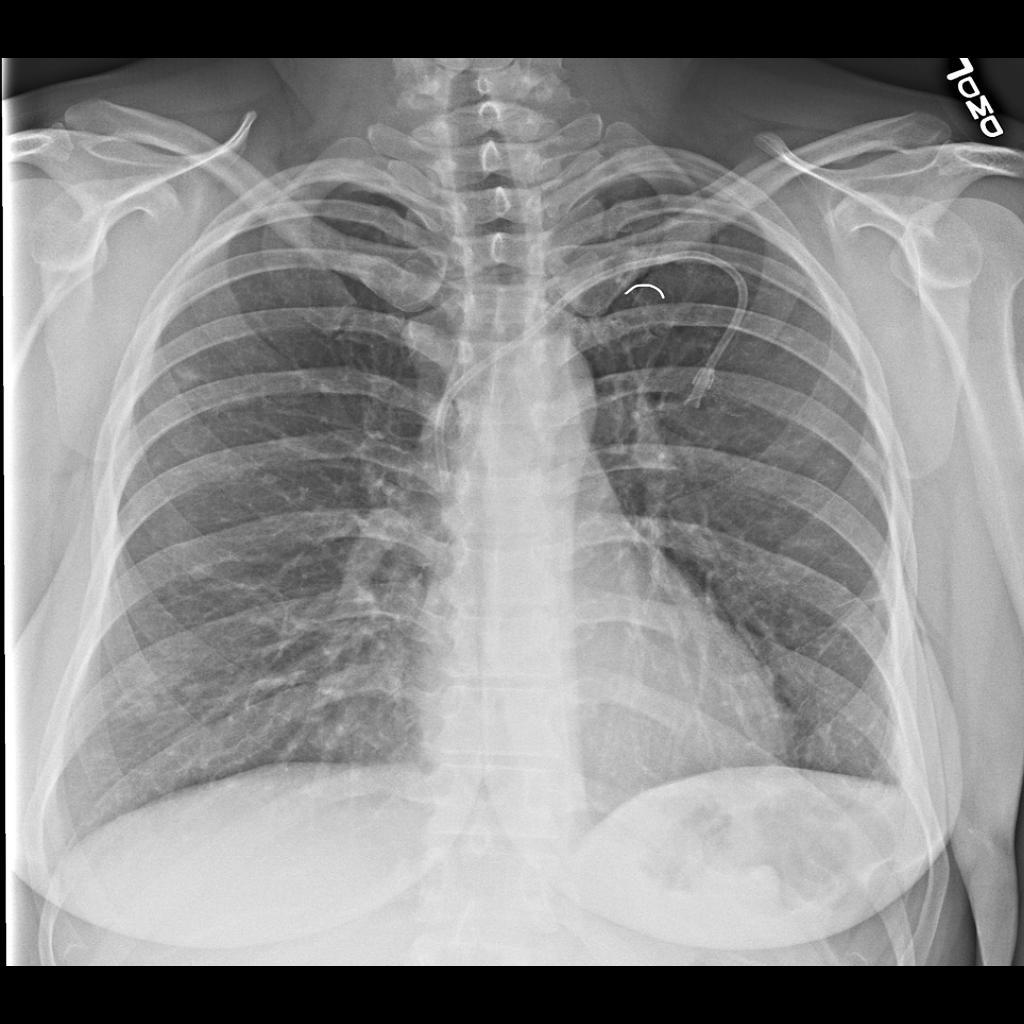Nodule: (113, 677, 162, 729)
